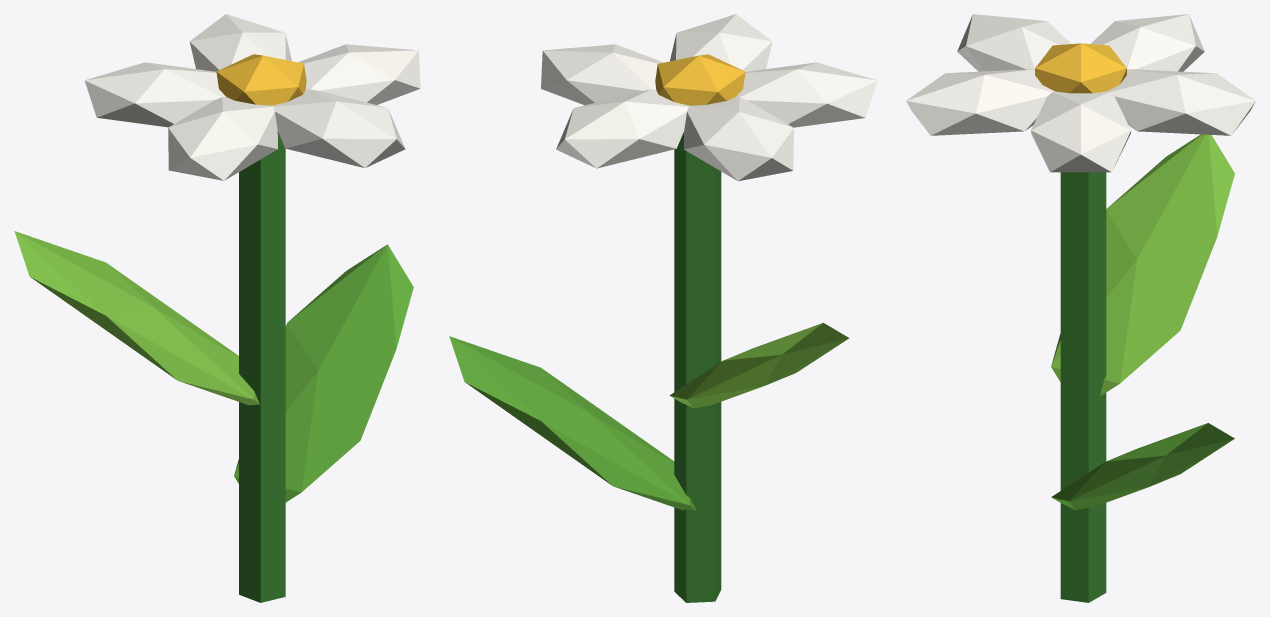
Rendered from flower_single.glb.
3 renders of one model, left to right at view 1: azimuth 30°, elevation 25°; view 2: azimuth 150°, elevation 25°; view 3: azimuth 270°, elevation 25°, orthographic. The views are drawn at different scales.
Parts seen in each view (by area): view 1: flower_single; view 2: flower_single; view 3: flower_single.
Boxes of the visible parts, box(x1,y1,x2,y2) form: flower_single: box(14, 14, 420, 602); flower_single: box(449, 14, 877, 602); flower_single: box(906, 14, 1255, 602).
Bounding box in the file's own units: 0.2696 × 0.36 × 0.2077.
